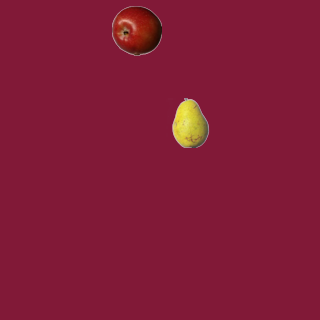Apple Braeburn: (111, 5, 161, 55)
Pear Monster: (165, 97, 215, 147)
